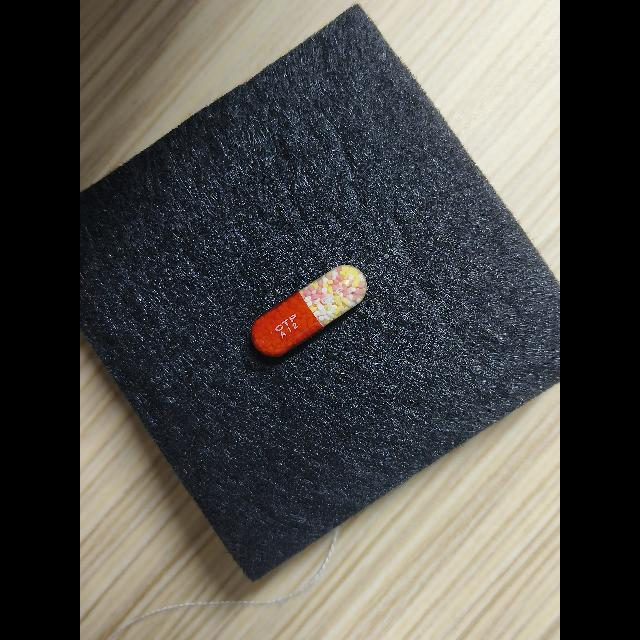Intact Capsule: (251, 265, 367, 357)
